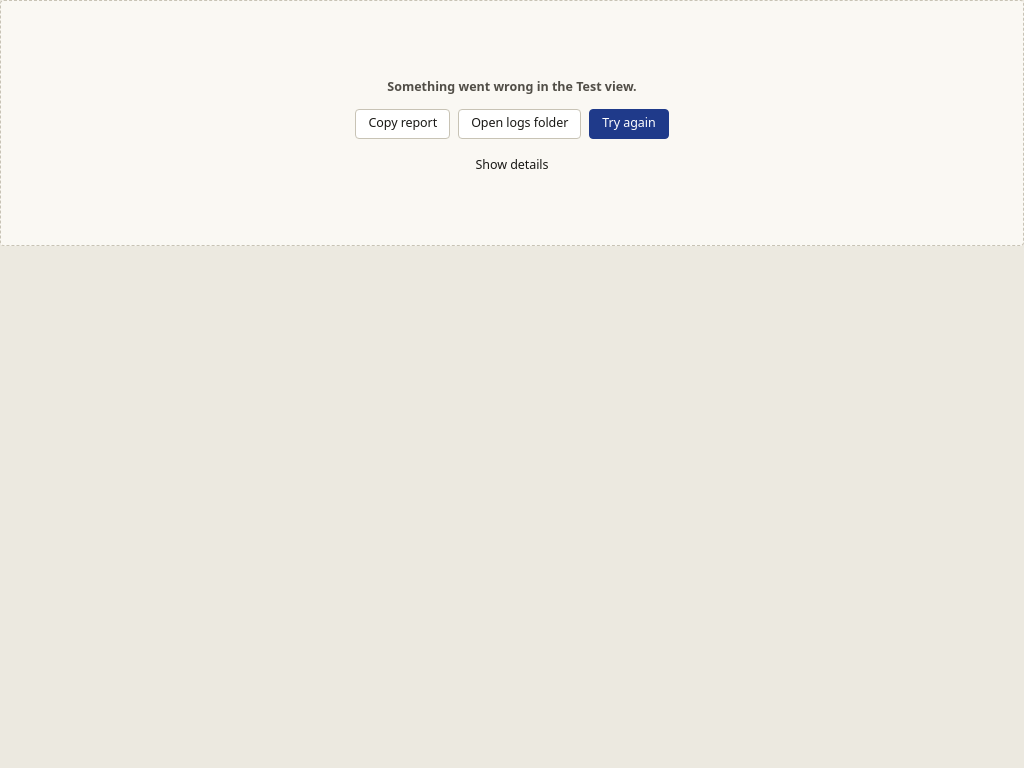
Test: ErrorBoundary › Show details toggle reveals the stack
Expected: the text "kaboom" is not shown
Click the button "Show details": [512, 166] box 462,151 -> 561,181
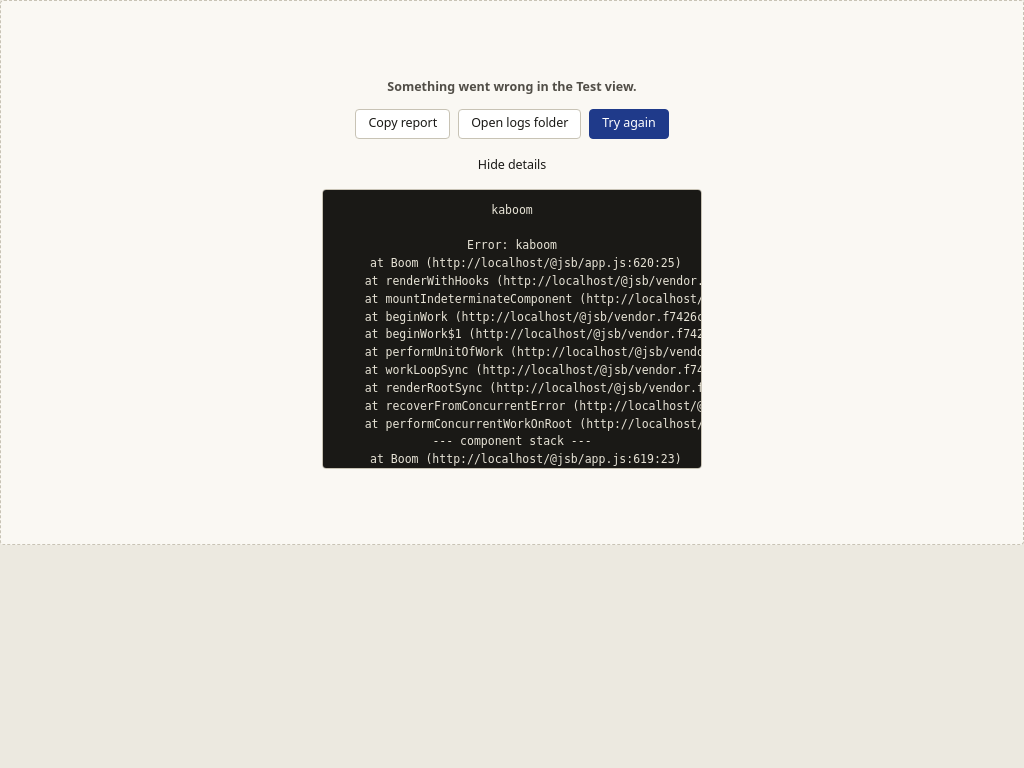
Expected: the text "kaboom" is shown, 491,203 -> 533,217
